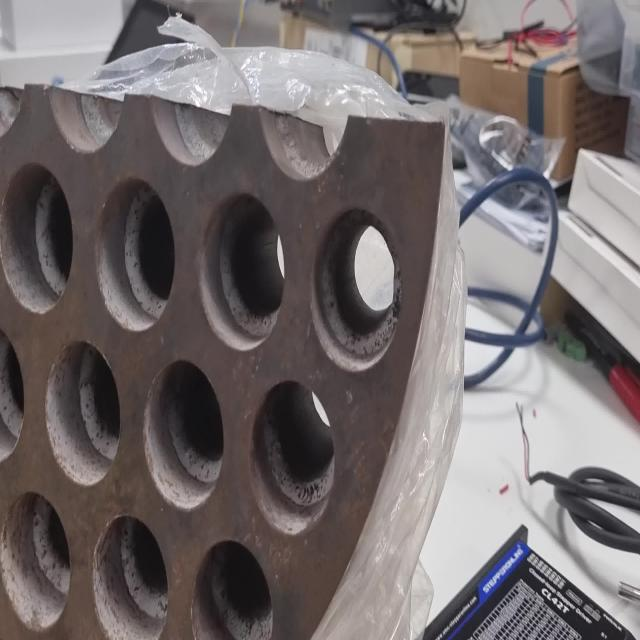Hole: (310, 204, 402, 372), (198, 193, 284, 351), (250, 380, 334, 536), (95, 177, 176, 333), (142, 358, 224, 510), (44, 339, 121, 487), (1, 163, 73, 315), (1, 491, 72, 631), (92, 511, 169, 639), (192, 538, 272, 640)
